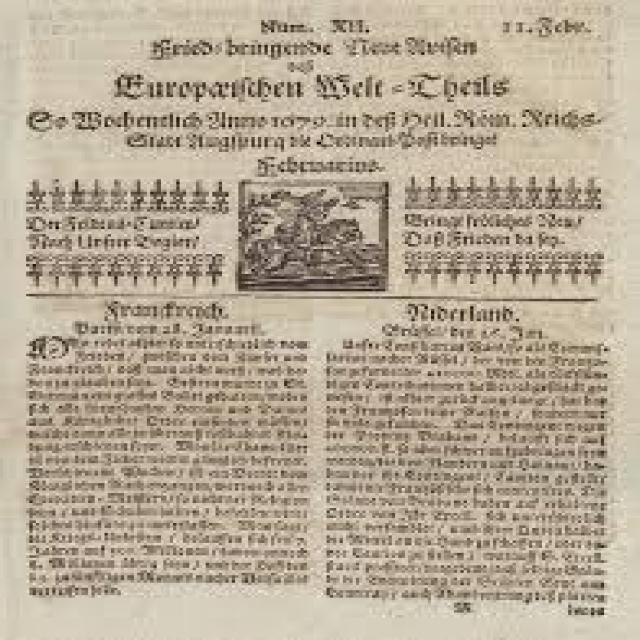paper: (12, 5, 640, 640)
